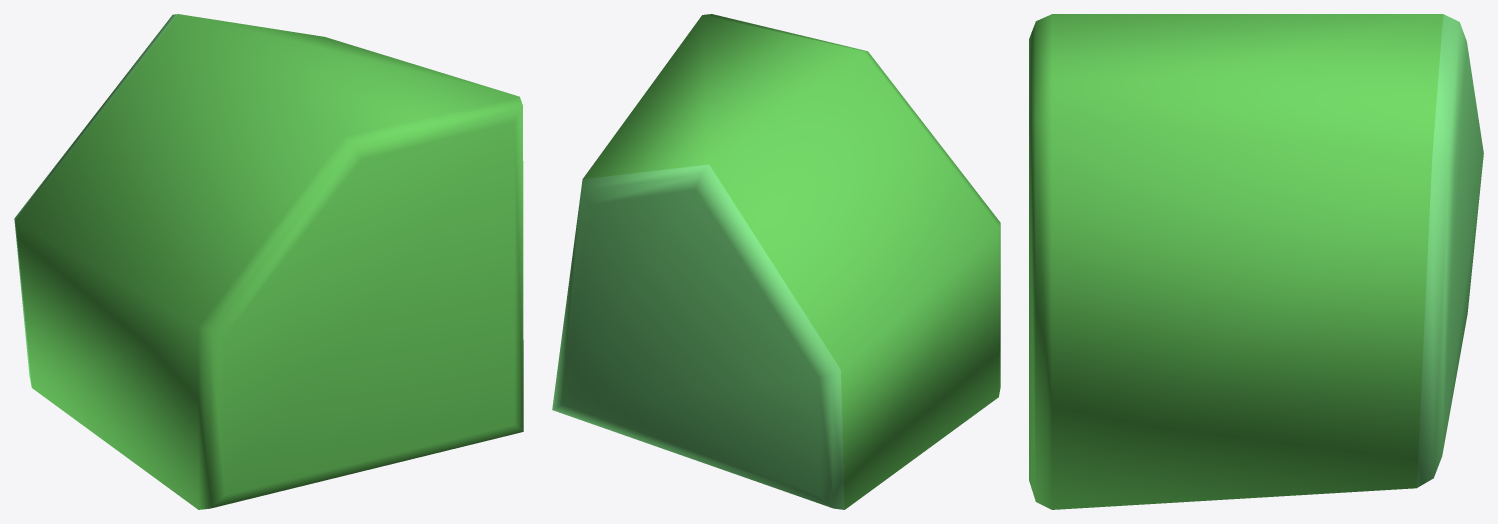
Rendered from stone1.fbx.
3 renders of one model, left to right at view 1: azimuth 30°, elevation 25°; view 2: azimuth 150°, elevation 25°; view 3: azimuth 270°, elevation 25°, orthographic. The views are drawn at different scales.
Parts seen in each view (by area): view 1: Cube.018; view 2: Cube.018; view 3: Cube.018.
Part boxes in pixels (box(x1,y1,x2,y2)): Cube.018: box(14, 14, 523, 509); Cube.018: box(552, 14, 1000, 509); Cube.018: box(1029, 14, 1483, 509).
Bounding box in the file's own units: 0.4926 × 0.4792 × 0.4983.
